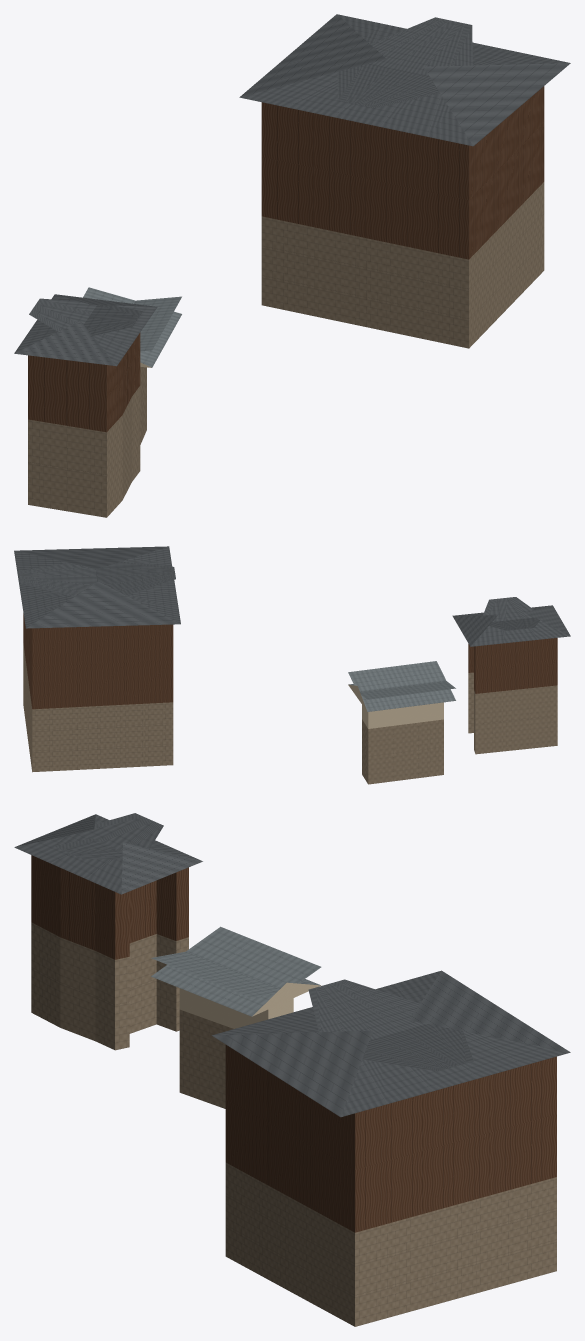
Rendered from bld_c-9_41_519.gltf.
The picture shows the model from 3 angles, top to bottom: view 1: azimuth 30°, elevation 25°; view 2: azimuth 150°, elevation 25°; view 3: azimuth 270°, elevation 25°; orthographic projection. The views are drawn at different scales.
Parts seen in each view (by area): view 1: bld_c-9_41_519; view 2: bld_c-9_41_519; view 3: bld_c-9_41_519.
Part boxes in pixels (x1,y1,x2,y2): bld_c-9_41_519: (14,14,570,517); bld_c-9_41_519: (14,546,570,784); bld_c-9_41_519: (14,813,570,1326).
Bounding box in the file's own units: 40.35 × 14.2 × 27.32.
Materials: 6 (6 with a texture image).
